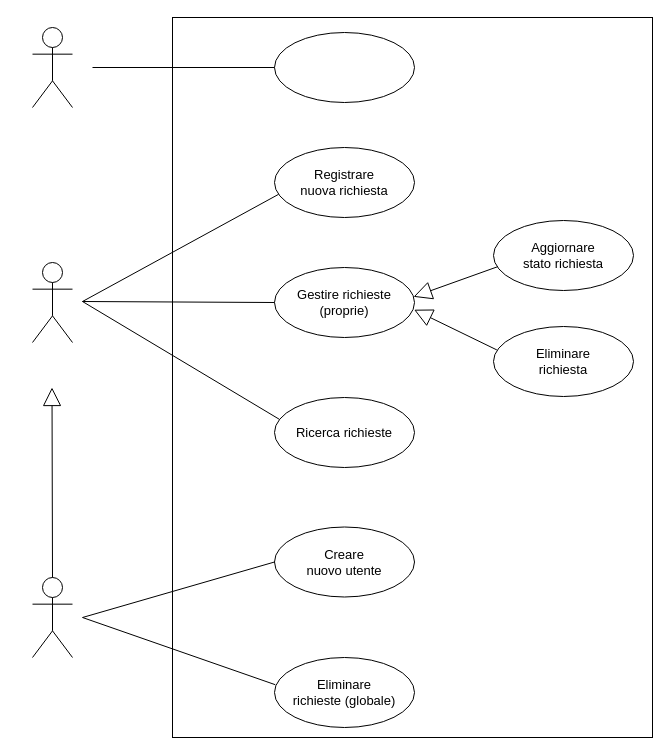
The diagram is 670 pixels wide and 755 high, and some of its shapes have lost their labels. The shapes that lost their labels are listed below. From the top down, each one's centre as x and y in pixels, then its label:
At point 52,67: "Utente Sconosciuto".
At point 344,67: "Autenticazione".
At point 52,302: "Utente Autenticato".
At point 52,617: "Admin".
